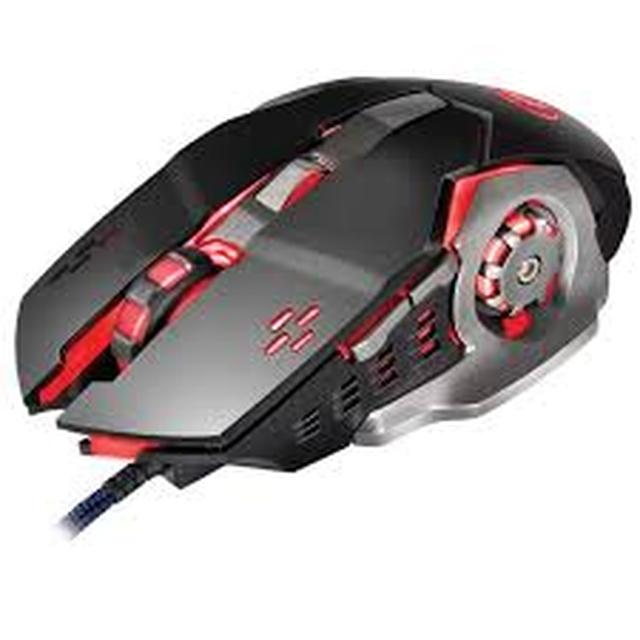mouse: (6, 69, 640, 524)
